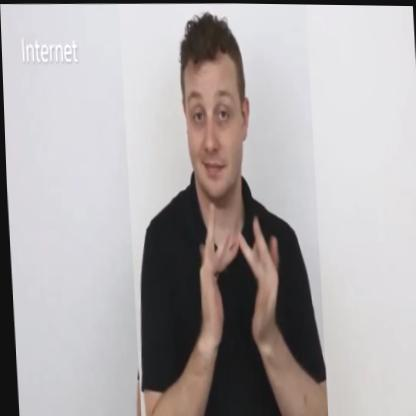Internet: (118, 1, 324, 416)
